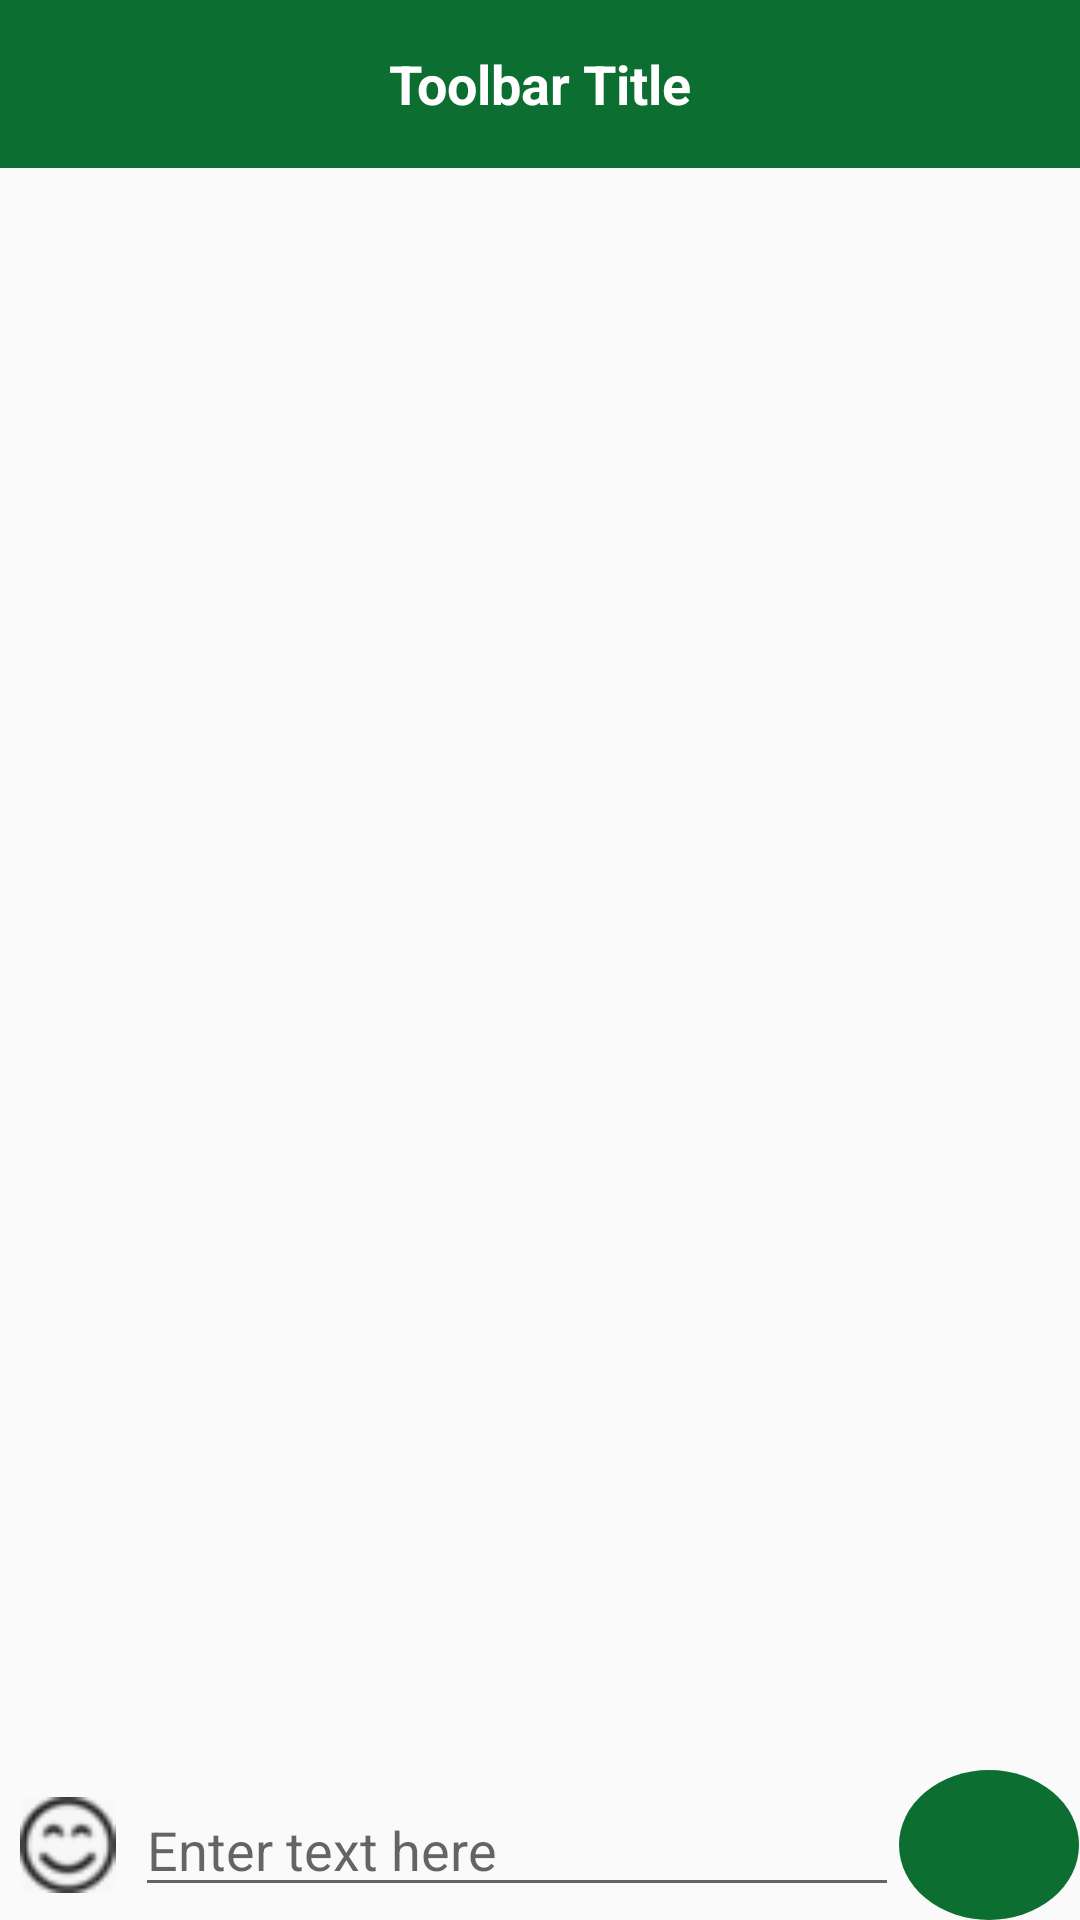

Named icons in this screenshot (1080×1920) and their bounding boxes, bbox=[x1, y1, x2, y2]:
Emoticons Button: bbox=[20, 1797, 116, 1893]
